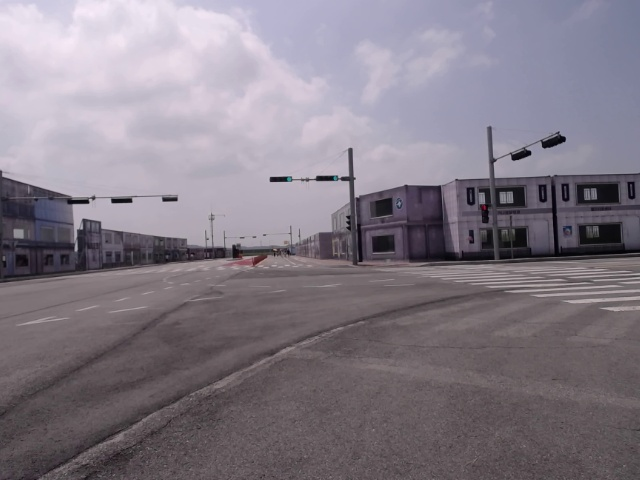straight_green_4: (315, 174, 339, 181), (270, 176, 292, 183)
